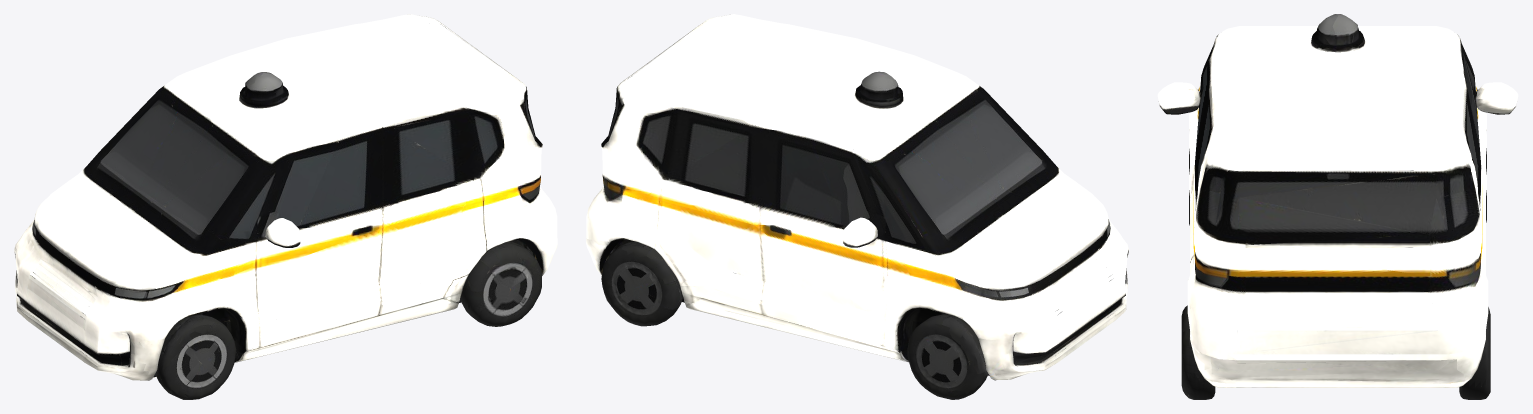
File: robotaxi.glb
The picture shows the model from 3 angles, left to right: view 1: azimuth 30°, elevation 25°; view 2: azimuth 150°, elevation 25°; view 3: azimuth 270°, elevation 25°; orthographic projection. The views are drawn at different scales.
Bounding box in the file's own units: 1.91 × 1.01 × 1.17.
Materials: 1 (1 with a texture image).
